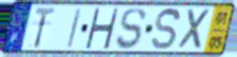H: (83, 7, 120, 51)
I: (65, 7, 83, 49)
S: (151, 6, 182, 52), (115, 7, 147, 51)
T: (32, 6, 57, 50)
X: (177, 7, 213, 51)
